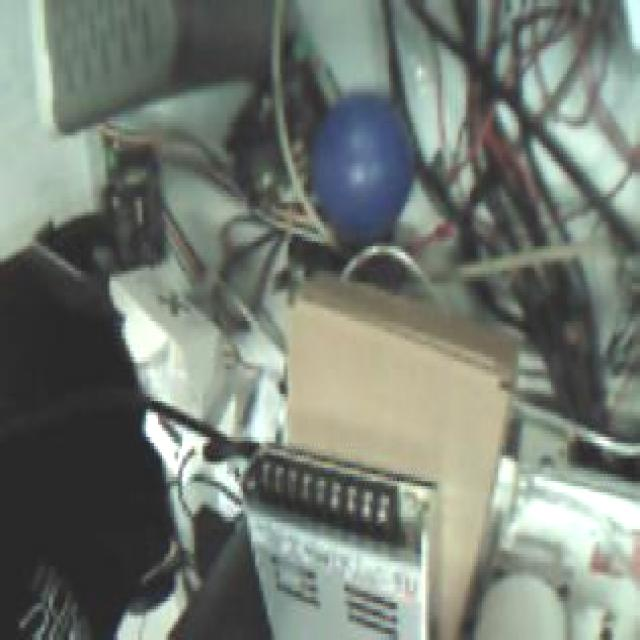BallPurple: (311, 97, 416, 237)
